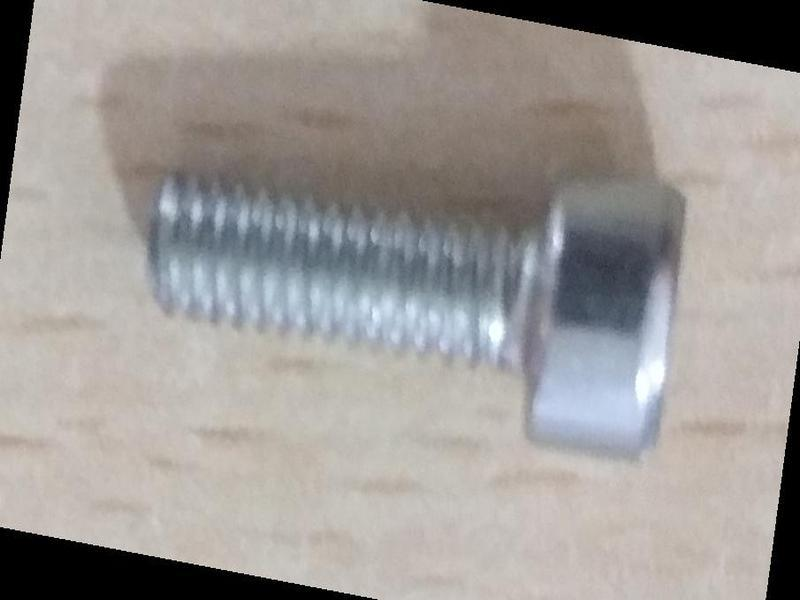smallscrew: (125, 115, 701, 487)
